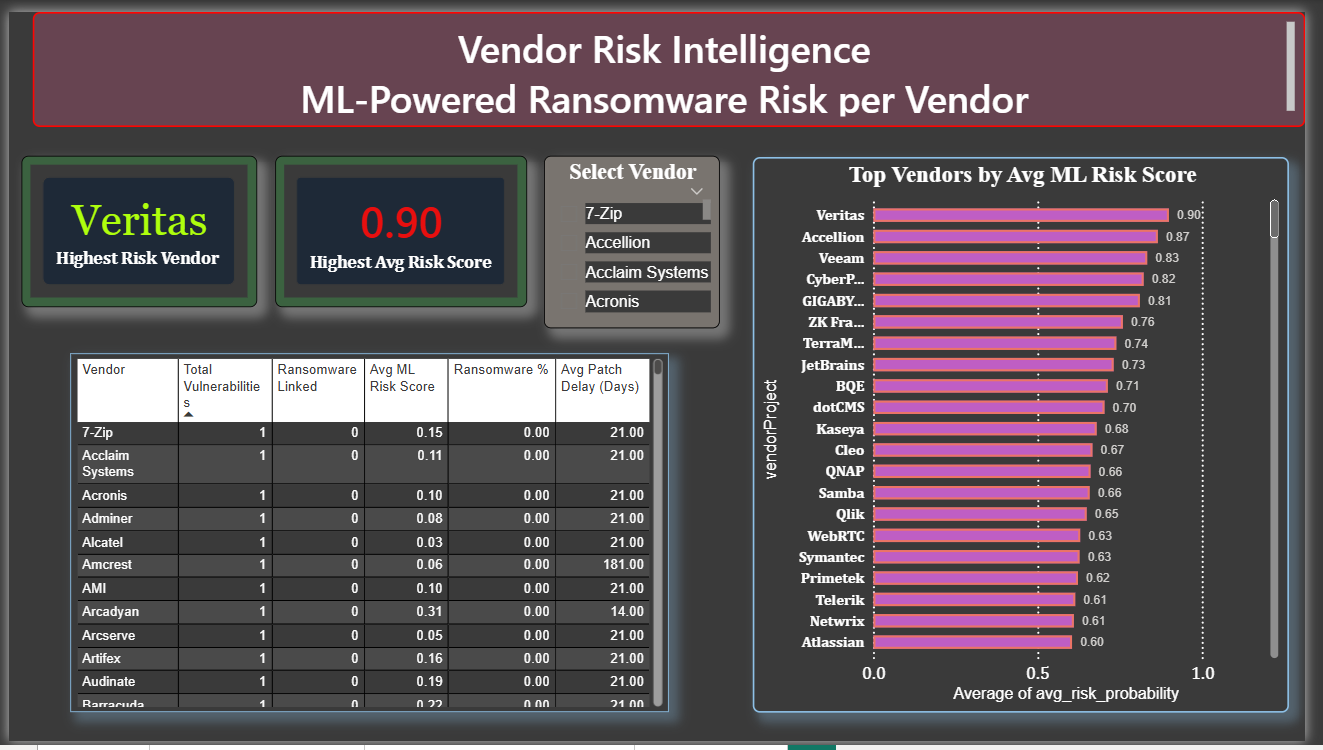

What the dashboard file says about the page in this screenshot:
{"tool":"powerbi","page":{"name":"Vendor Risk Intelligence","canvas":[1280,720],"ordinal":1},"visuals":[{"type":"textbox","box":[22.9,0,1257.1,113.4],"z":0},{"type":"tableEx","fields":{"Values":["vendor_risk_summary.vendorProject","vendor_risk_summary.total_vulnerabilities","vendor_risk_summary.ransomware_linked","vendor_risk_summary.avg_risk_probability","vendor_risk_summary.ransomware_percentage","vendor_risk_summary.avg_patch_delay"]},"box":[60.3,336.6,591.2,354.7],"z":1000},{"type":"clusteredBarChart","title":"Top Vendors by Avg ML Risk Score","fields":{"Category":["vendor_risk_summary.vendorProject"],"Y":["Avg(vendor_risk_summary.avg_risk_probability)"]},"box":[734.1,142.7,529.7,548.9],"z":2000},{"type":"cardVisual","title":"Most Risky Vendor","fields":{"Data":["vendor_risk_summary.Highest Risk Vendor"]},"box":[12.1,142.4,232.8,149.6],"z":3000},{"type":"cardVisual","title":"Highest Avg Risk Score","fields":{"Data":["vendor_risk_summary.Highest Avg Risk Score"]},"box":[263,142.4,248.5,149.6],"z":4000},{"type":"slicer","title":"Select Vendor","fields":{"Values":["vendor_risk_summary.vendorProject"]},"box":[528.4,142.4,173.7,170.1],"z":5000}]}

Visuals, with their boxes in screenshot pixels (x1, y1, x2, y2), scaled from the page's 1280x720 canvas onto the 1323x750 screenshot:
textbox: box=[24, 0, 1322, 118]
tableEx - vendor_risk_summary.vendorProject x vendor_risk_summary.total_vulnerabilities: box=[62, 351, 673, 720]
"Top Vendors by Avg ML Risk Score" clusteredBarChart: box=[759, 149, 1306, 720]
"Most Risky Vendor" cardVisual: box=[13, 148, 253, 304]
"Highest Avg Risk Score" cardVisual: box=[272, 148, 529, 304]
"Select Vendor" slicer: box=[546, 148, 726, 326]
